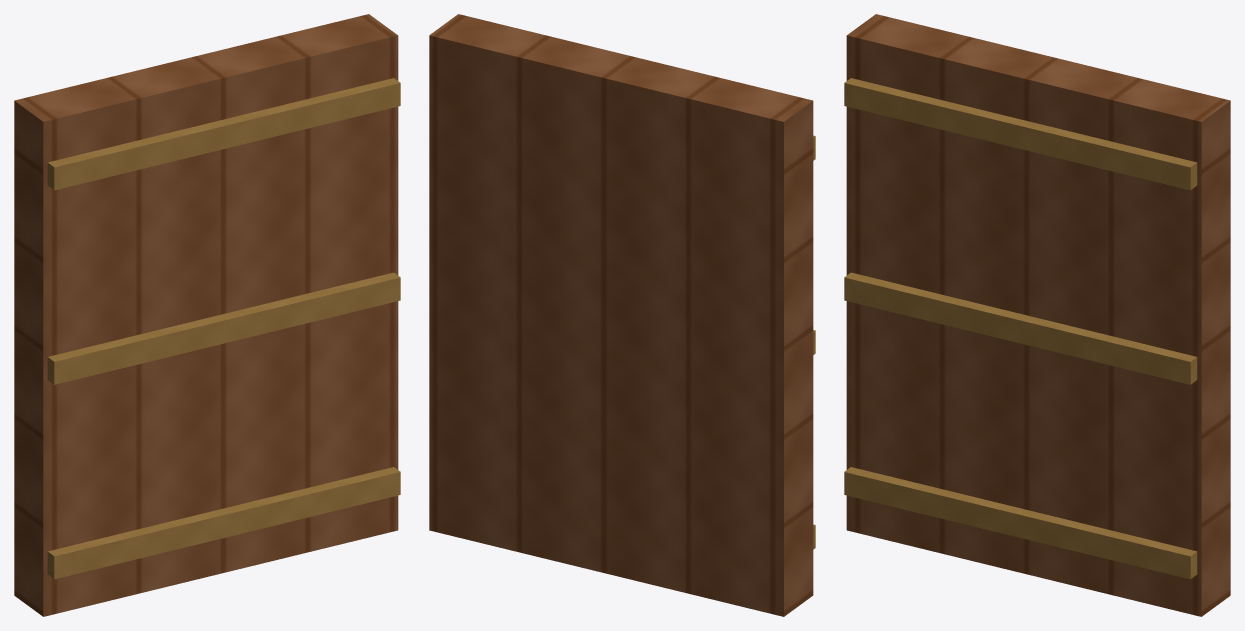
Rendered from door_panel.obj.
3 views of the same model, side by side, from view 1: azimuth 30°, elevation 25°; view 2: azimuth 150°, elevation 25°; view 3: azimuth 330°, elevation 25° (orthographic).
Visible parts, largest first — view 1: door_panel; view 2: door_panel; view 3: door_panel.
Boxes of the visible parts, left/top/right/bottom form: door_panel: left=14, top=14, right=400, bottom=616; door_panel: left=429, top=14, right=815, bottom=616; door_panel: left=844, top=14, right=1230, bottom=616.
Bounding box in the file's own units: 2.1 × 2.8 × 0.37.
2 materials, 2 textured.
